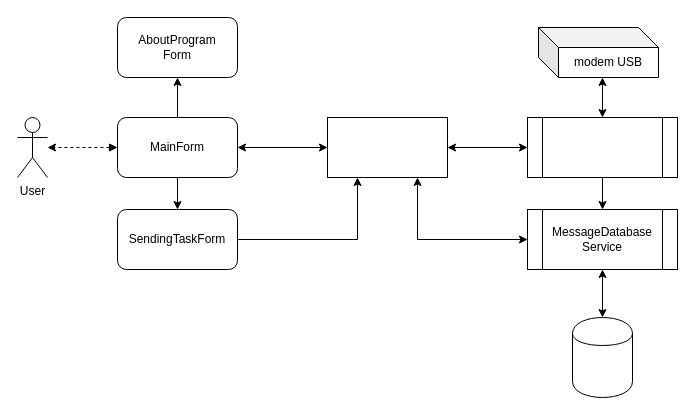
This 695x415 diagram has some shape labels left out. The centre of each missing label's shape, as x and y in pixels:
"JSON" goes at (x=602, y=357).
"MainController" goes at (x=387, y=147).
"UsbModem Service" goes at (x=602, y=147).
